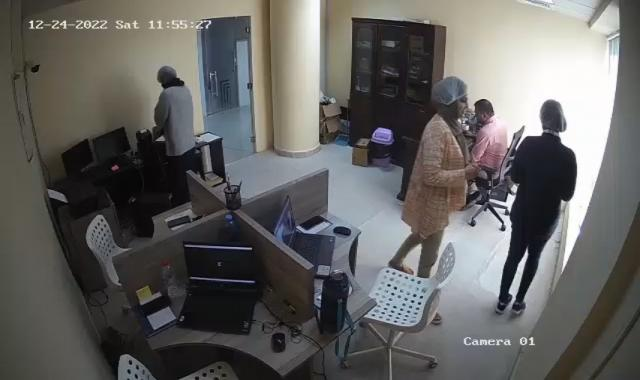hairnet: (434, 78, 470, 124), (540, 100, 568, 138), (155, 65, 177, 88)
no_hairnet: (472, 98, 498, 126)
